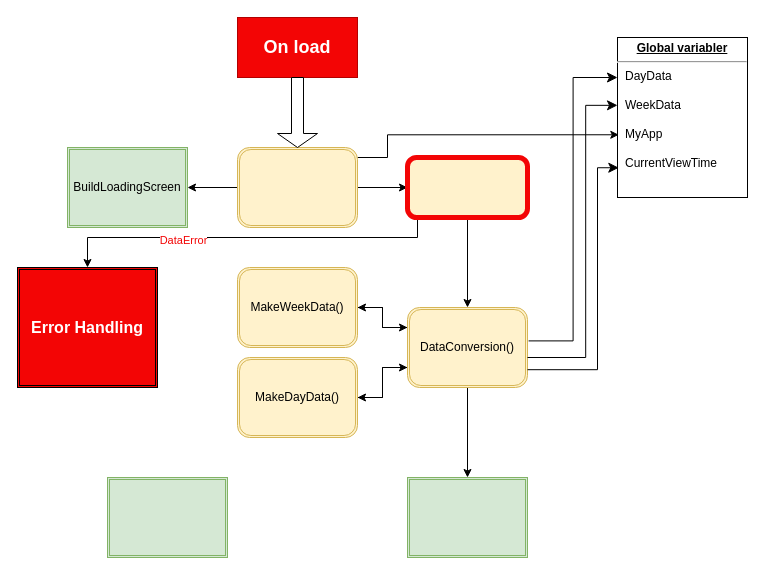
This 775x575 diagram has some shape labels left out. The shapes that lost their labels are listed below. From the top down, each one's centre as x and y in pixels, then its label:
At (297,187): "InitApp()".
At (467,187): "FetchData()".
At (467,517): "BuildFirstView()".
